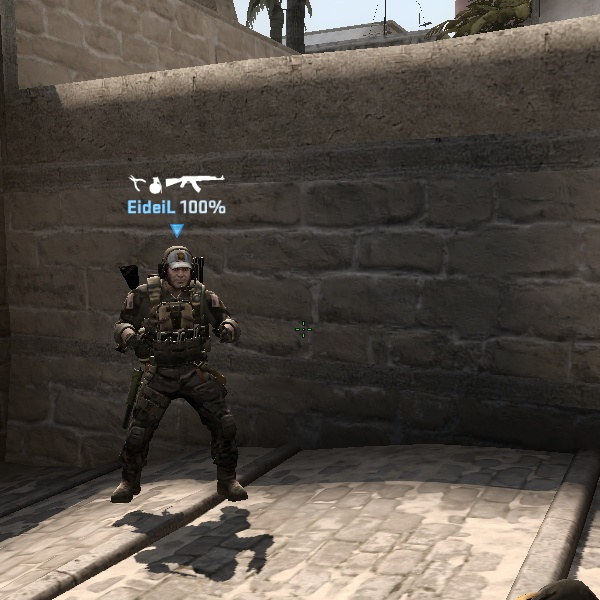ct_body: (106, 242, 260, 509)
ct_head: (153, 243, 207, 298)
